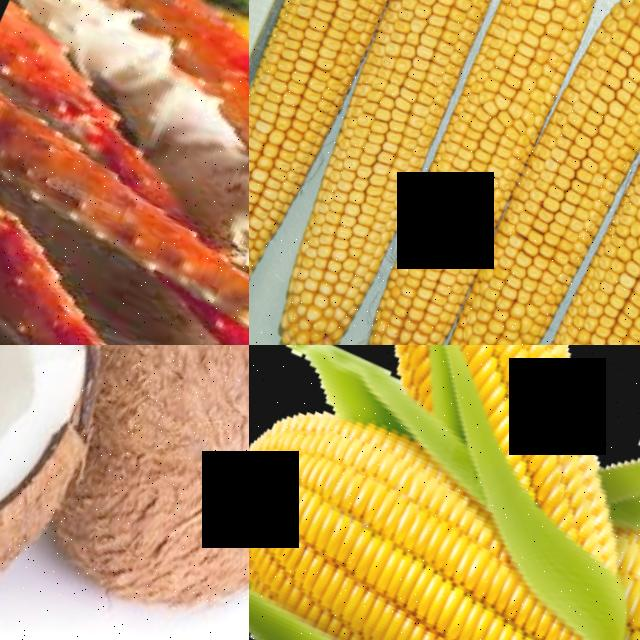coconut: (0, 345, 249, 640), (0, 345, 154, 640)
corn: (291, 0, 640, 345), (249, 352, 640, 640), (249, 0, 564, 345), (375, 0, 640, 345), (249, 0, 490, 345), (462, 0, 640, 345), (307, 345, 640, 454), (555, 49, 640, 345)
crab: (0, 0, 249, 345), (0, 134, 249, 345)
